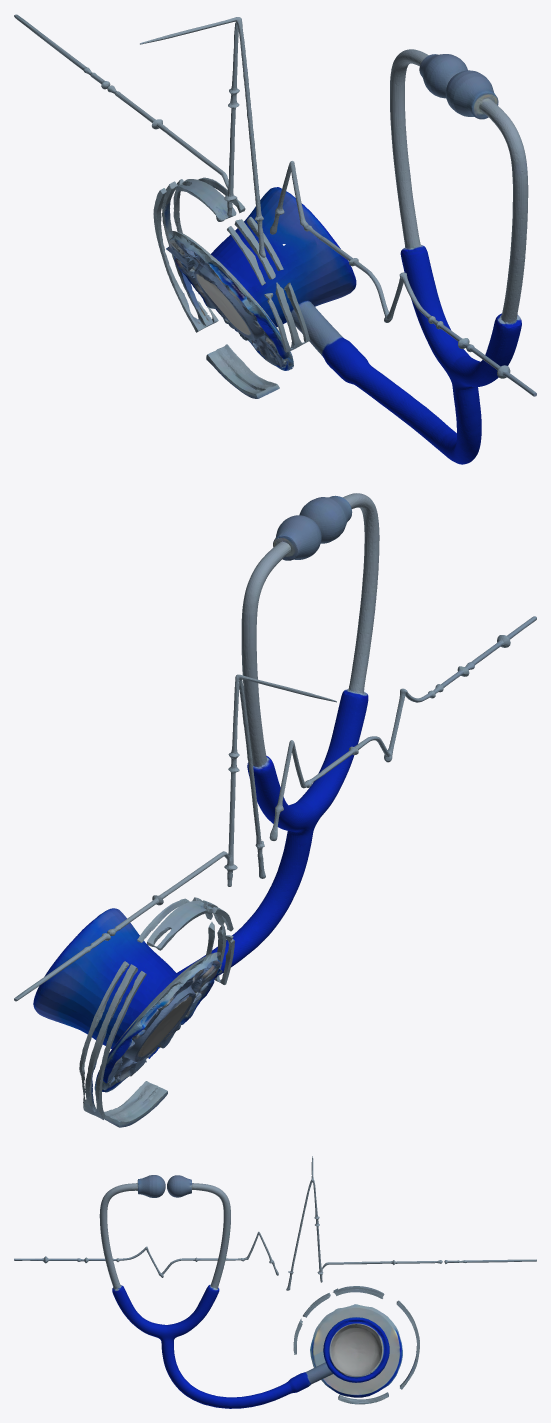
File: stethoscope 3d model.glb
3 views of the same model, one above another, from view 1: azimuth 30°, elevation 25°; view 2: azimuth 150°, elevation 25°; view 3: azimuth 270°, elevation 25° (orthographic). The views are drawn at different scales.
Parts seen in each view (by area): view 1: tripo_node_97cdc20e-ba73-4555-a80d-cf9c3e0cd88e; view 2: tripo_node_97cdc20e-ba73-4555-a80d-cf9c3e0cd88e; view 3: tripo_node_97cdc20e-ba73-4555-a80d-cf9c3e0cd88e.
Part boxes in pixels (x1,y1,x2,y2): tripo_node_97cdc20e-ba73-4555-a80d-cf9c3e0cd88e: (14,14,536,464); tripo_node_97cdc20e-ba73-4555-a80d-cf9c3e0cd88e: (14,493,536,1127); tripo_node_97cdc20e-ba73-4555-a80d-cf9c3e0cd88e: (14,1156,536,1408).
Size of the model in its own units: 0.2725 by 0.49 by 1.
1 material, 1 textured.
